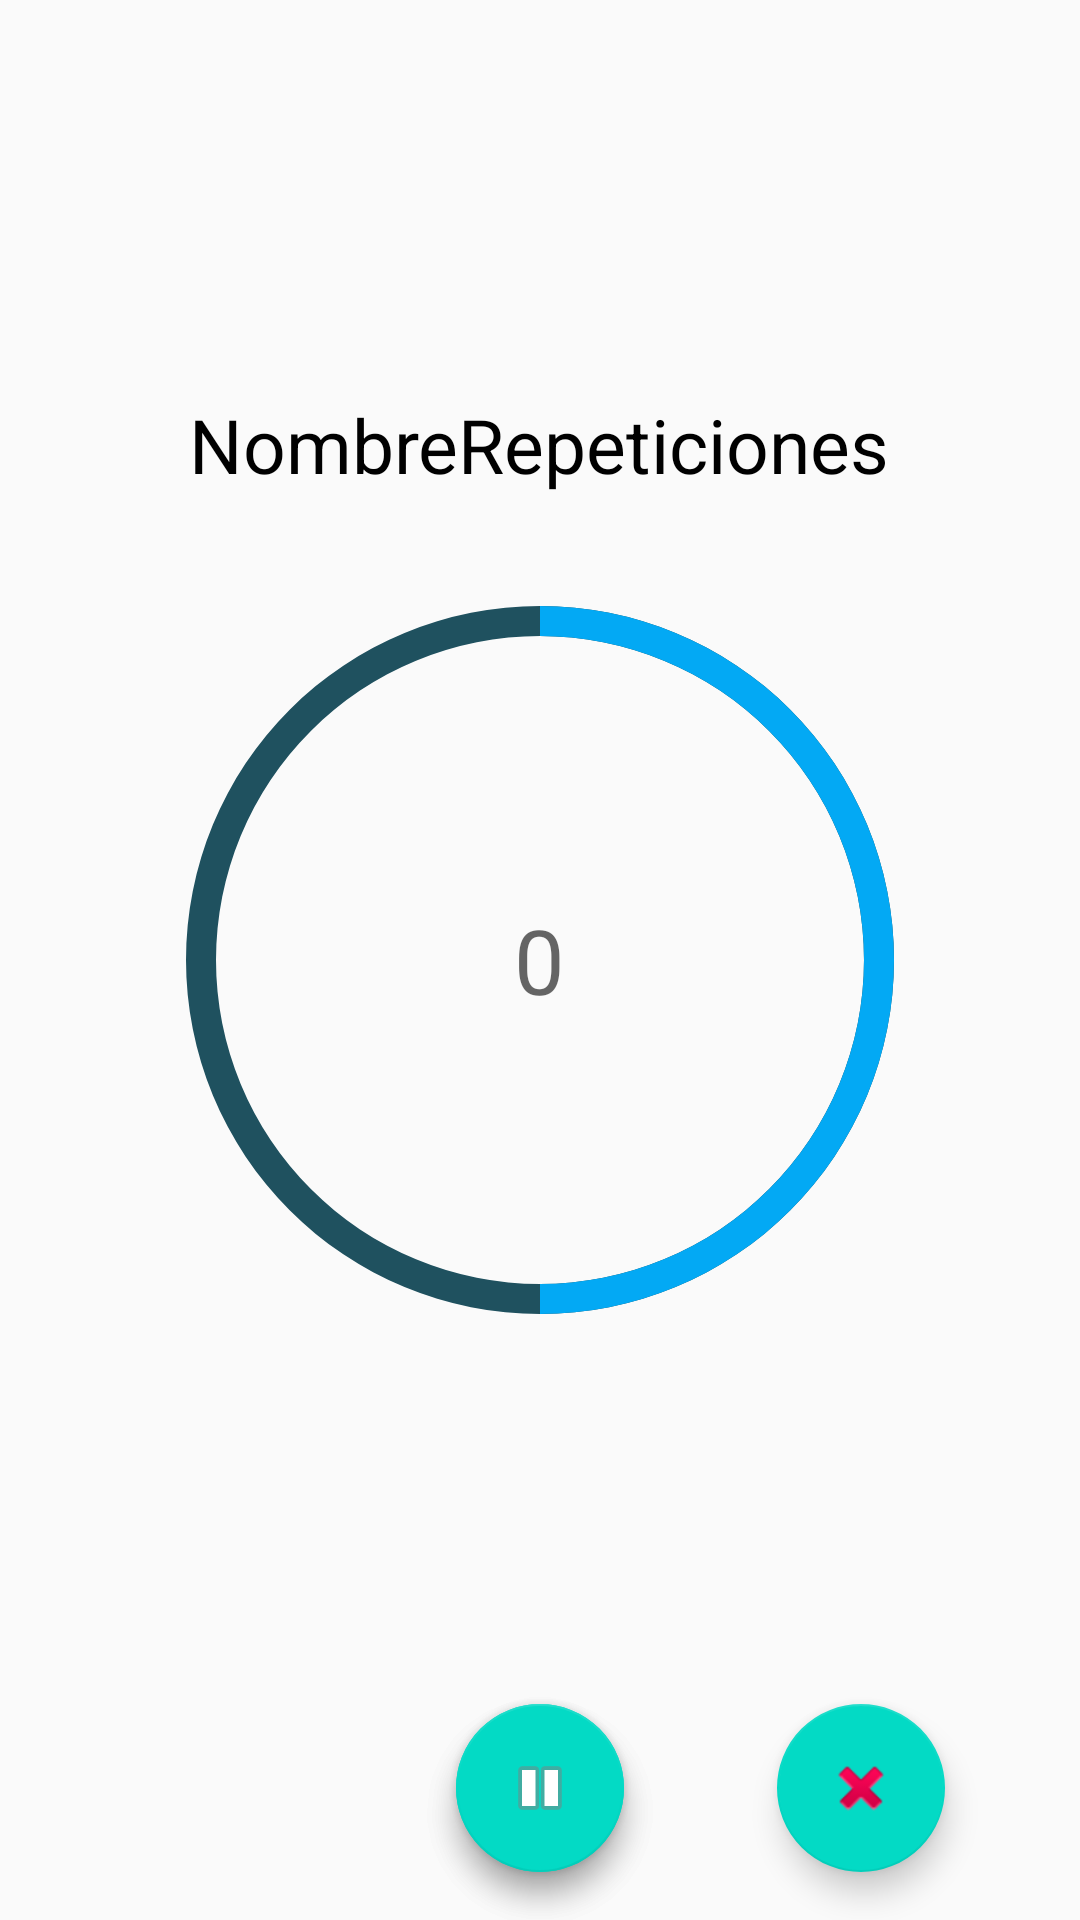

Icons on this 1080px×1920px Android screen, each with its box as (x1, y1, x2, y2):
delete: (777, 1704, 945, 1872)
